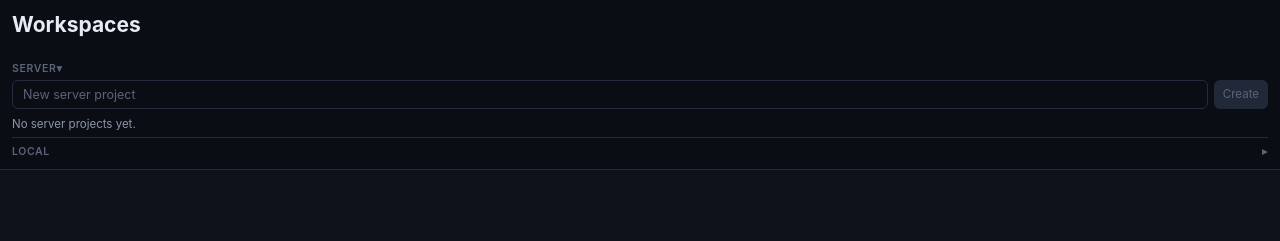
Scenario: WorkspaceSwitcher › collapses local sources
The width and height of the screenshot is (1280, 241).
Click the button with test id "workspace-local-toggle": click(31, 151) [12, 138, 1268, 163]
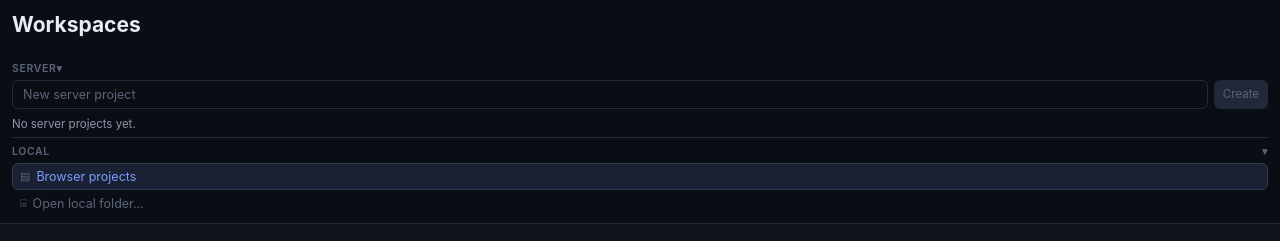
Check: the button with test id "workspace-local" is shown, box [12, 163, 1268, 190]
Click the button with test id "workspace-local-toggle": click(31, 151) [12, 138, 1268, 163]
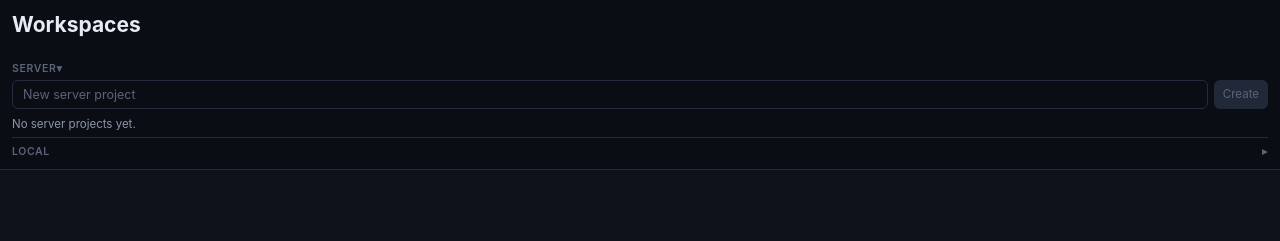
Check: the button with test id "workspace-local-toggle" is collapsed, box [12, 138, 1268, 163]
Check: the button with test id "workspace-local" is gone
